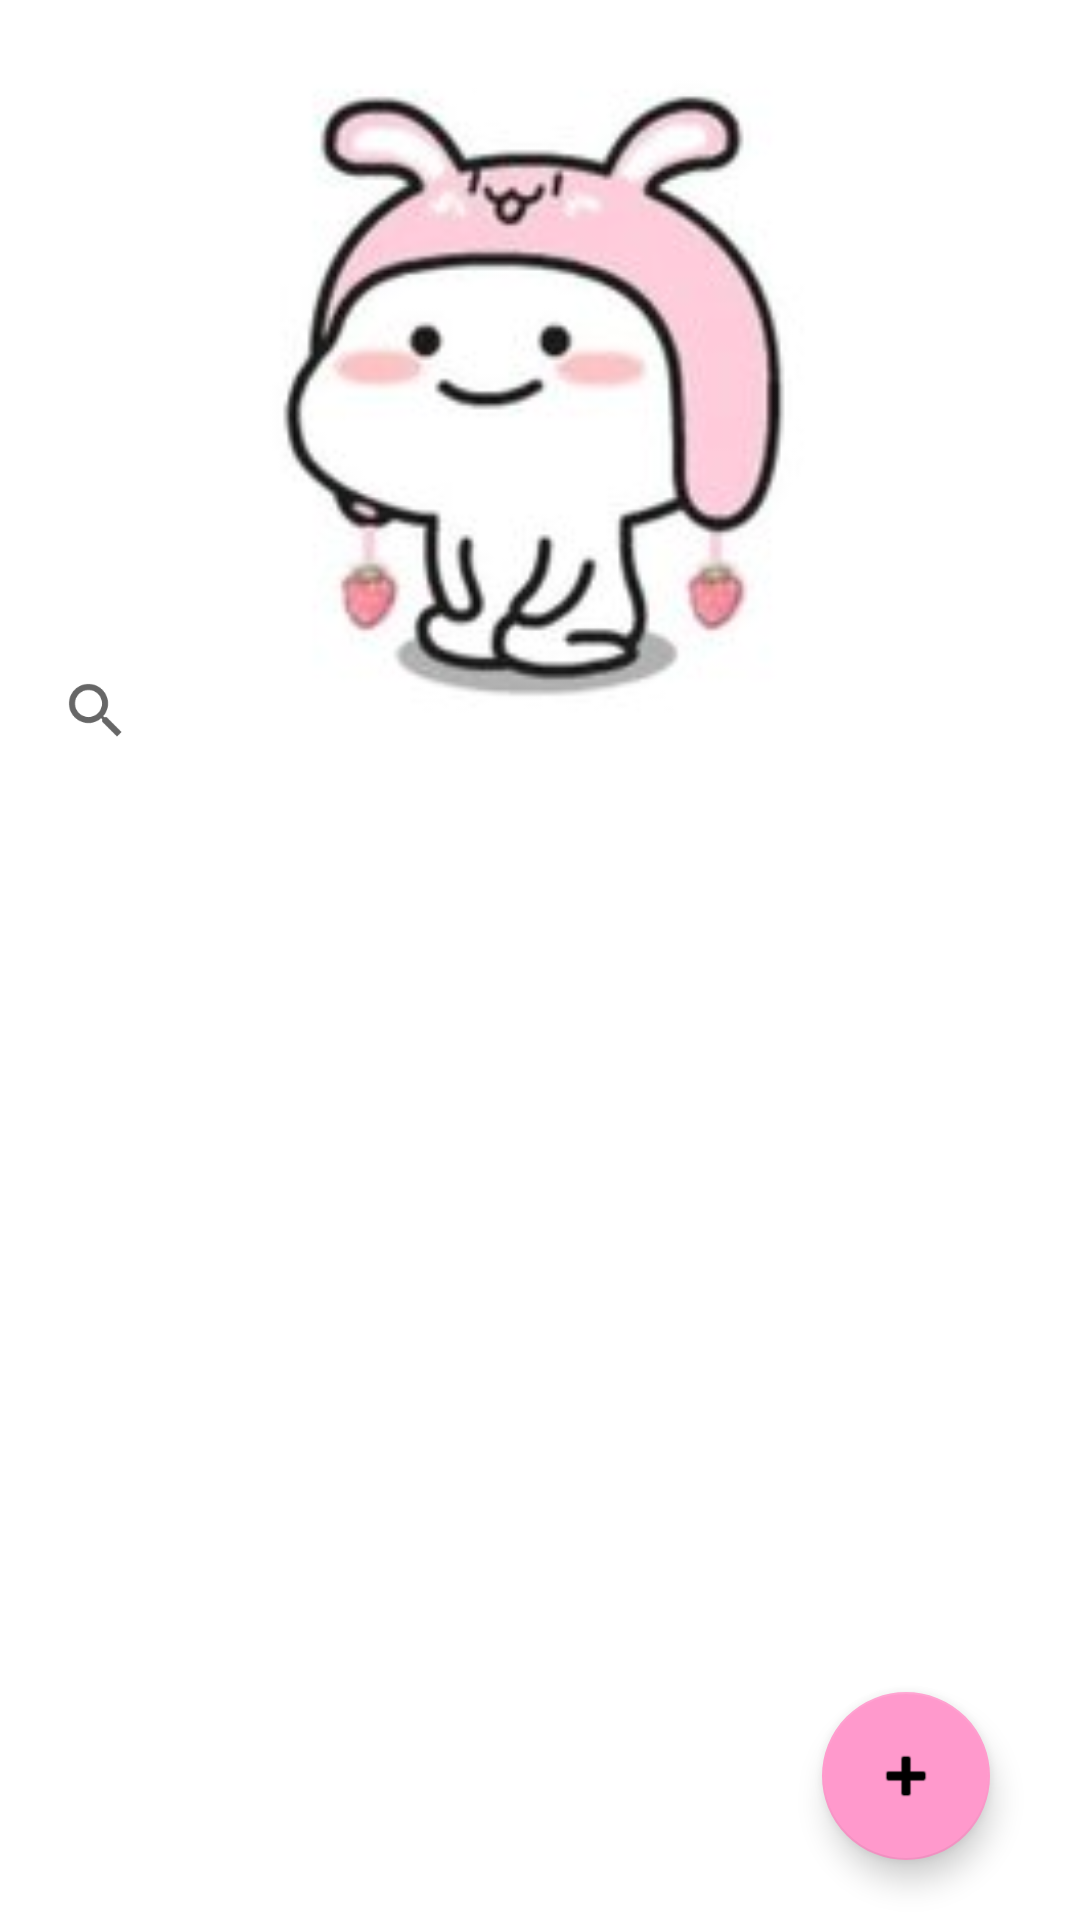

Where icons sit on this 1080×1920 app screen, as bbox=[x1, y1, x2, y2]:
add: bbox=[822, 1692, 990, 1860]
